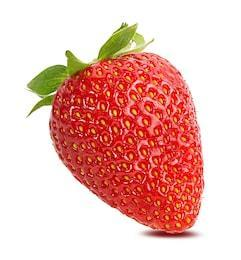Fresa: (44, 47, 214, 238)
